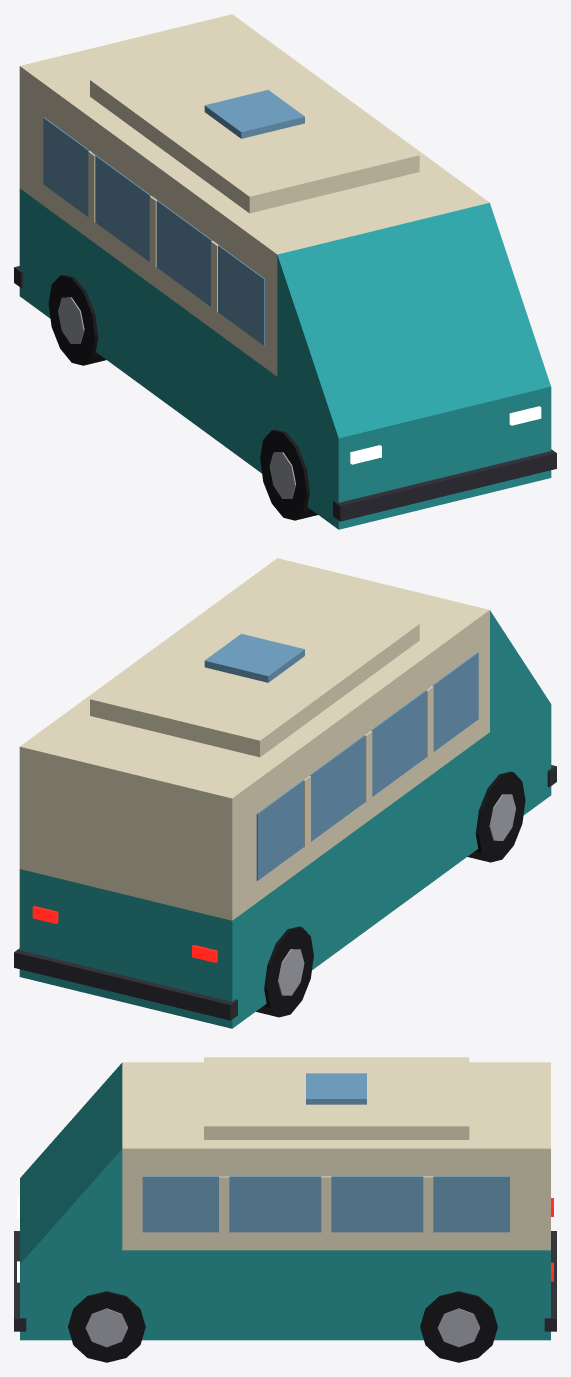
File: camper_van.glb
3 views of the same model, one above another, from view 1: azimuth 30°, elevation 25°; view 2: azimuth 150°, elevation 25°; view 3: azimuth 270°, elevation 25° (orthographic). The views are drawn at different scales.
Visible parts, largest first — view 1: camper_van; view 2: camper_van; view 3: camper_van.
Boxes of the visible parts, x1=… form: camper_van: x1=14, y1=14, x2=556, y2=529; camper_van: x1=14, y1=558, x2=556, y2=1028; camper_van: x1=14, y1=1057, x2=556, y2=1362.
Size of the model in its own units: 2.08 by 2.51 by 5.32.
